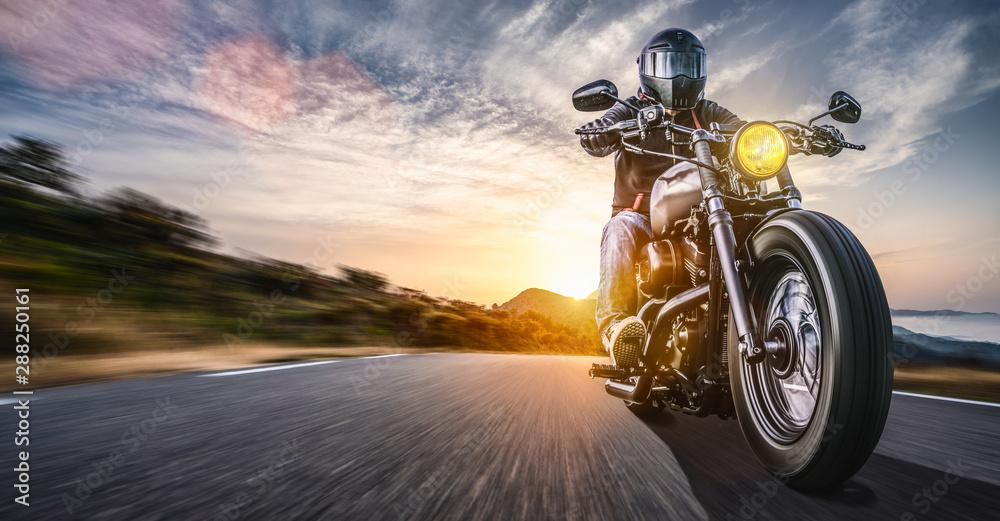helmet: (635, 27, 708, 111)
